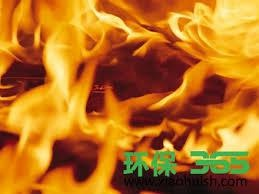fire: (1, 3, 247, 181)
